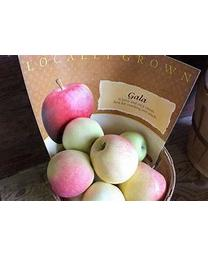apple: (41, 80, 95, 146), (47, 149, 95, 198), (91, 135, 138, 184), (119, 162, 166, 201), (63, 118, 106, 153), (84, 182, 126, 201), (122, 132, 146, 163)
